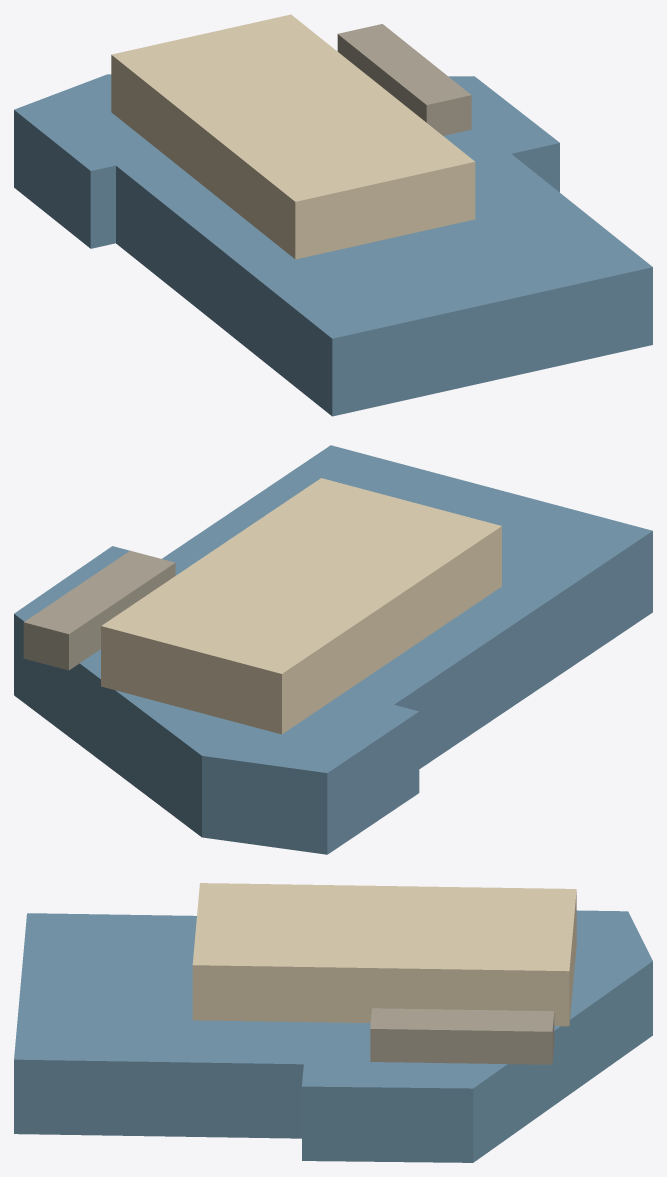
The model's file is vcu-cabell-library.glb.
3 views of the same model, one above another, from view 1: azimuth 30°, elevation 25°; view 2: azimuth 150°, elevation 25°; view 3: azimuth 270°, elevation 25° (orthographic). The views are drawn at different scales.
Parts seen in each view (by area): view 1: podium, upper, vcu-cabell-library_2; view 2: podium, upper, vcu-cabell-library_2; view 3: podium, upper, vcu-cabell-library_2.
Part boxes in pixels (box(x1,y1,x2,y2)): podium: box(14, 74, 652, 416); upper: box(111, 14, 475, 259); vcu-cabell-library_2: box(337, 24, 471, 135); podium: box(14, 445, 652, 854); upper: box(101, 478, 501, 734); vcu-cabell-library_2: box(23, 550, 175, 670); podium: box(14, 910, 652, 1162); upper: box(192, 883, 576, 1026); vcu-cabell-library_2: box(370, 1008, 554, 1064).
Size of the model in its own units: 69.93 by 23.5 by 105.
